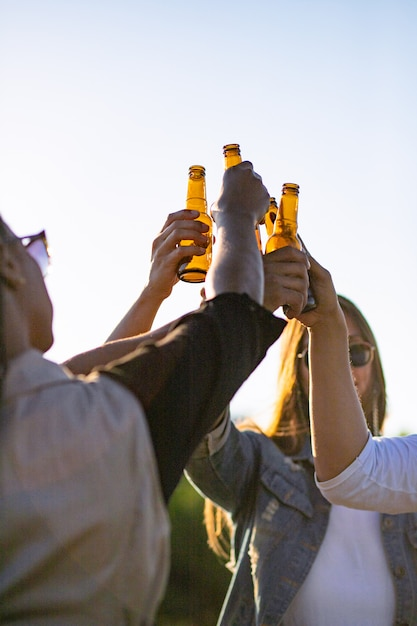alcohol: (261, 198, 319, 311), (264, 179, 305, 315), (220, 143, 265, 266), (175, 163, 217, 285)
